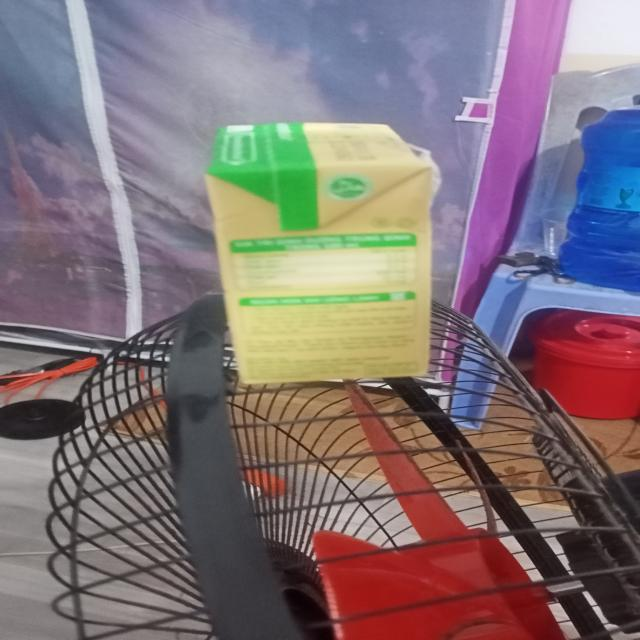Fami: (204, 123, 434, 396)
